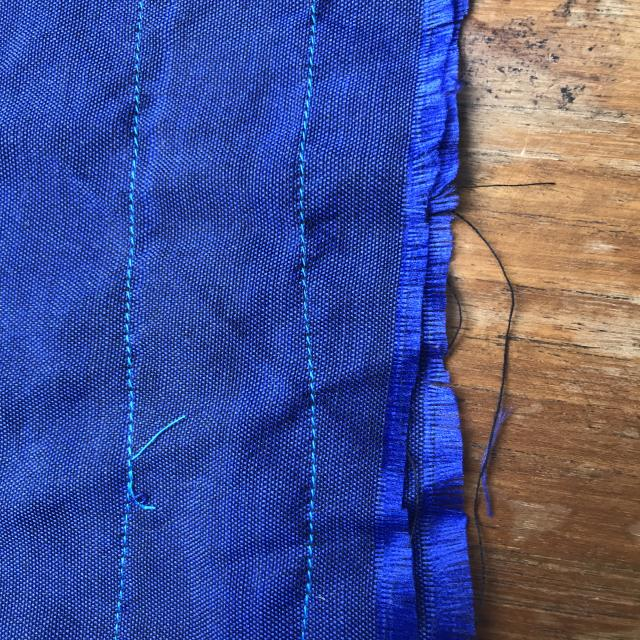good: (290, 220, 323, 352)
